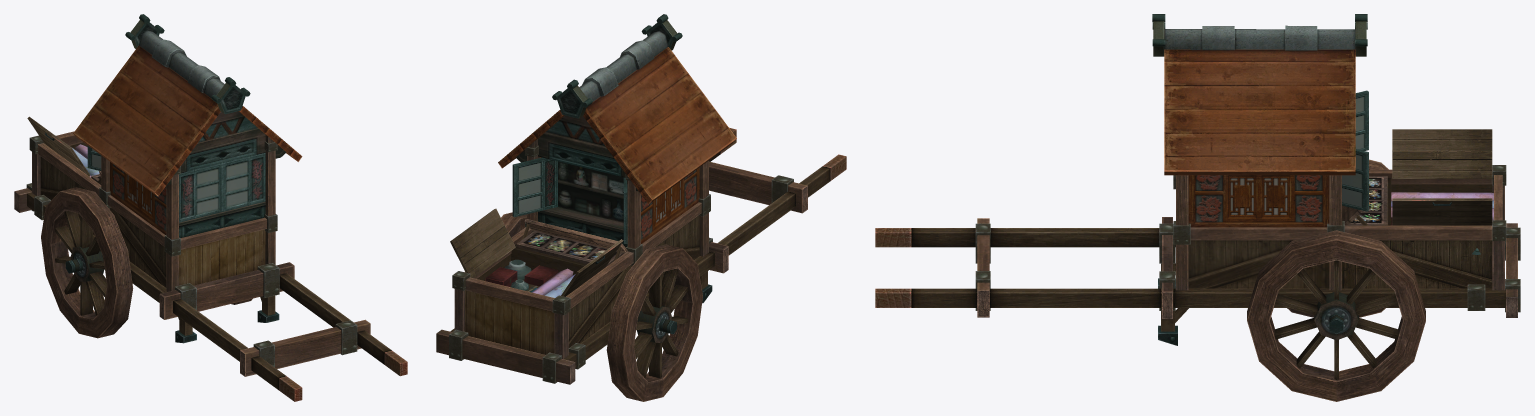
Rendered from cart_shop.fbx.
3 renders of one model, left to right at view 1: azimuth 30°, elevation 25°; view 2: azimuth 150°, elevation 25°; view 3: azimuth 270°, elevation 25°, orthographic. The views are drawn at different scales.
Parts seen in each view (by area): view 1: objcart_shop; view 2: objcart_shop; view 3: objcart_shop.
Boxes of the visible parts, x1,y1,x2,y2 form: objcart_shop: [14, 14, 407, 401]; objcart_shop: [436, 14, 846, 401]; objcart_shop: [875, 14, 1520, 401].
Size of the model in its own units: 2.38 by 3.82 by 6.52.
